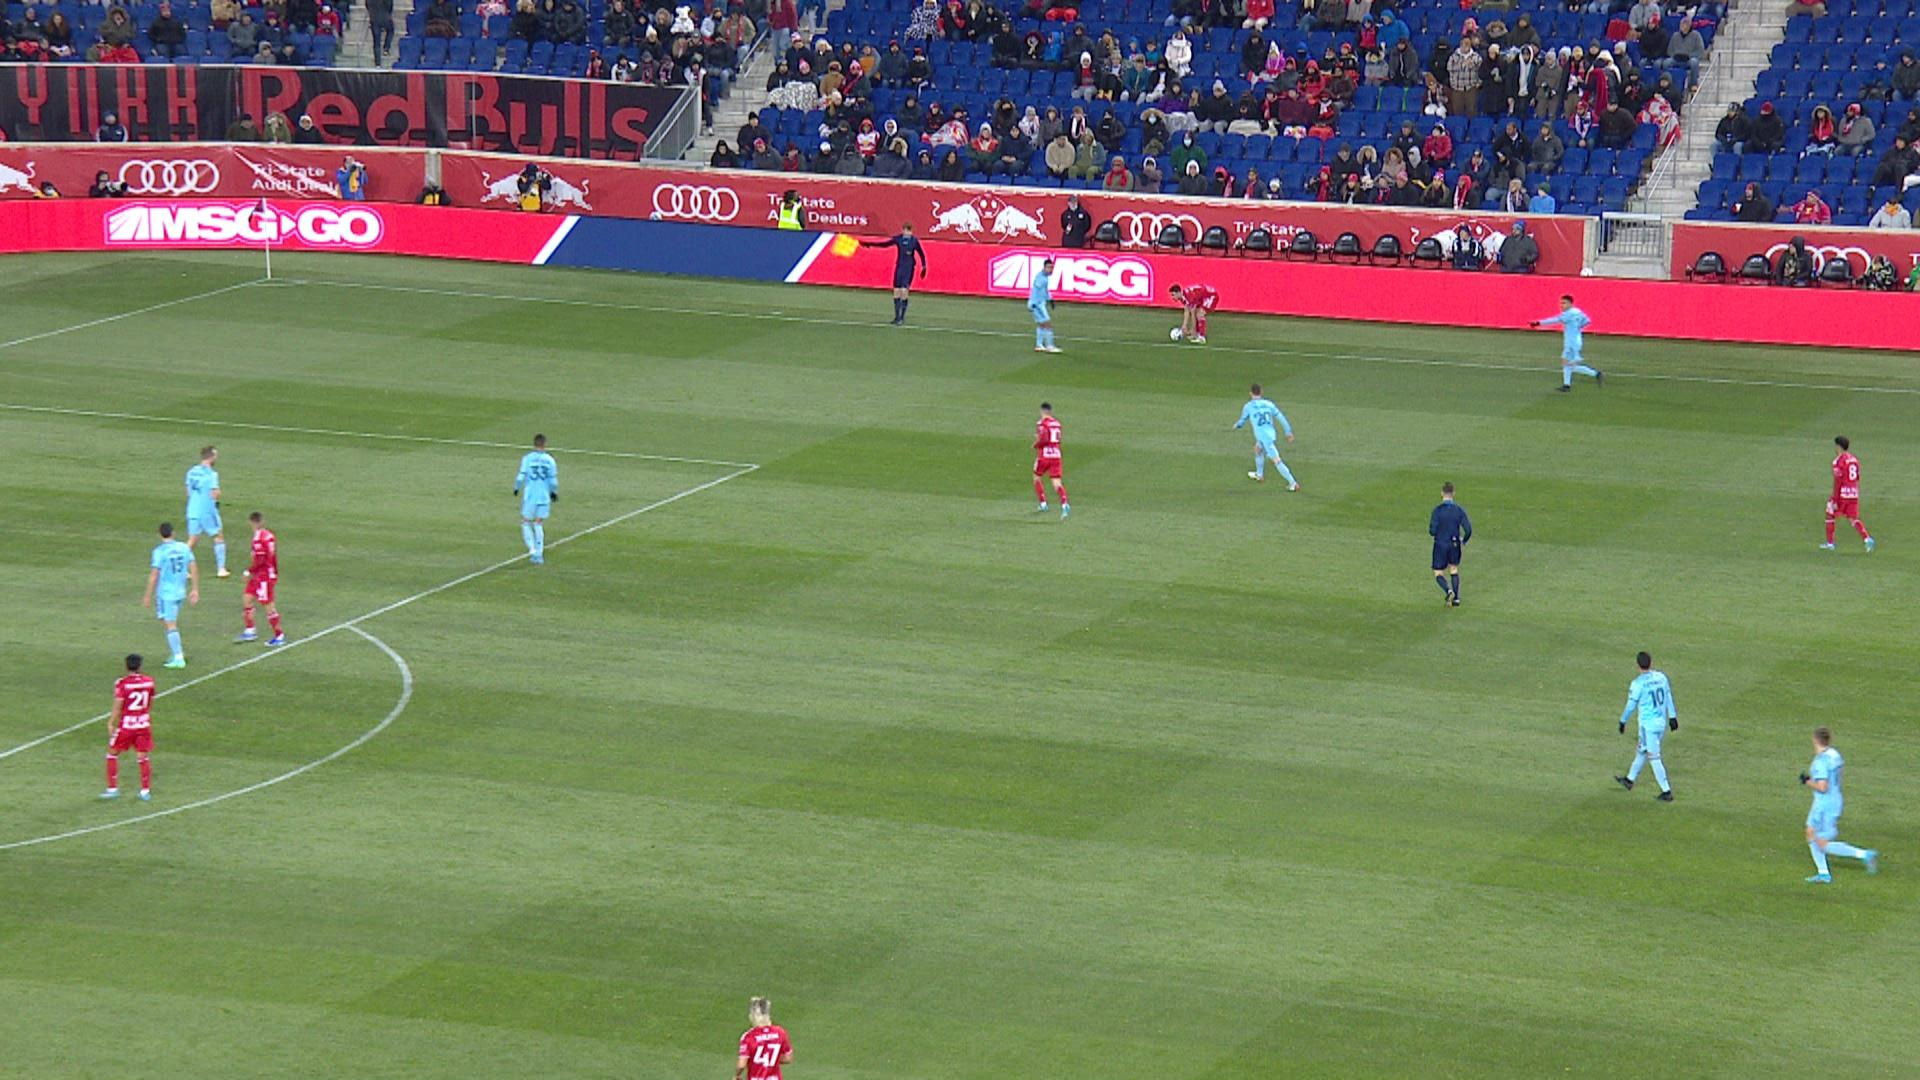football: (1168, 327, 1183, 342)
